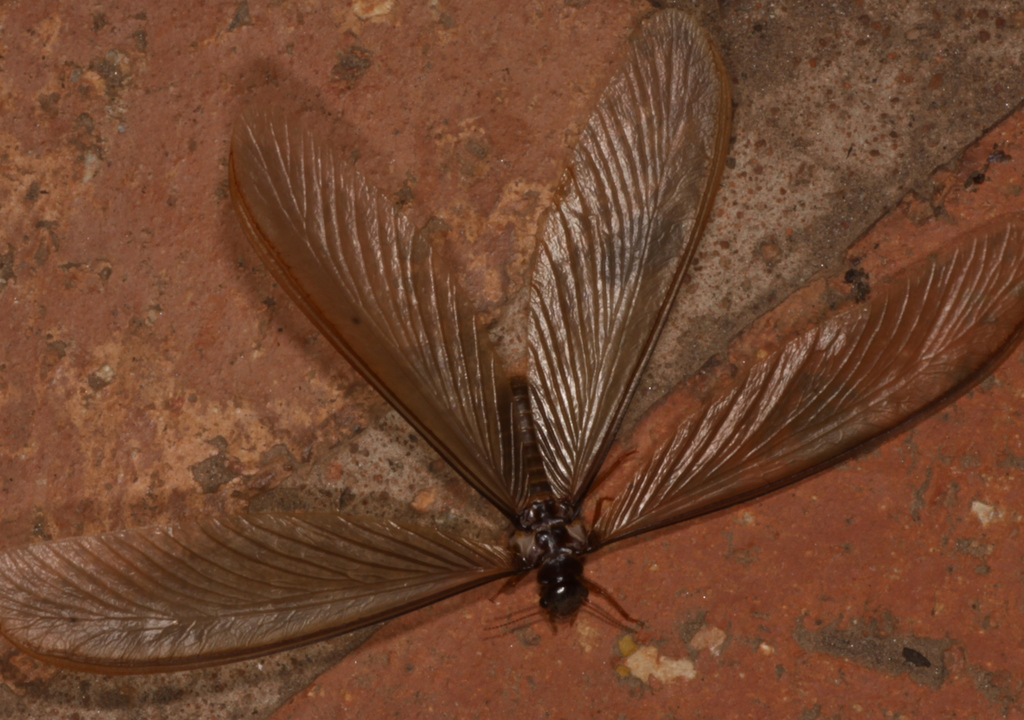flying termite: (1, 7, 1017, 714)
